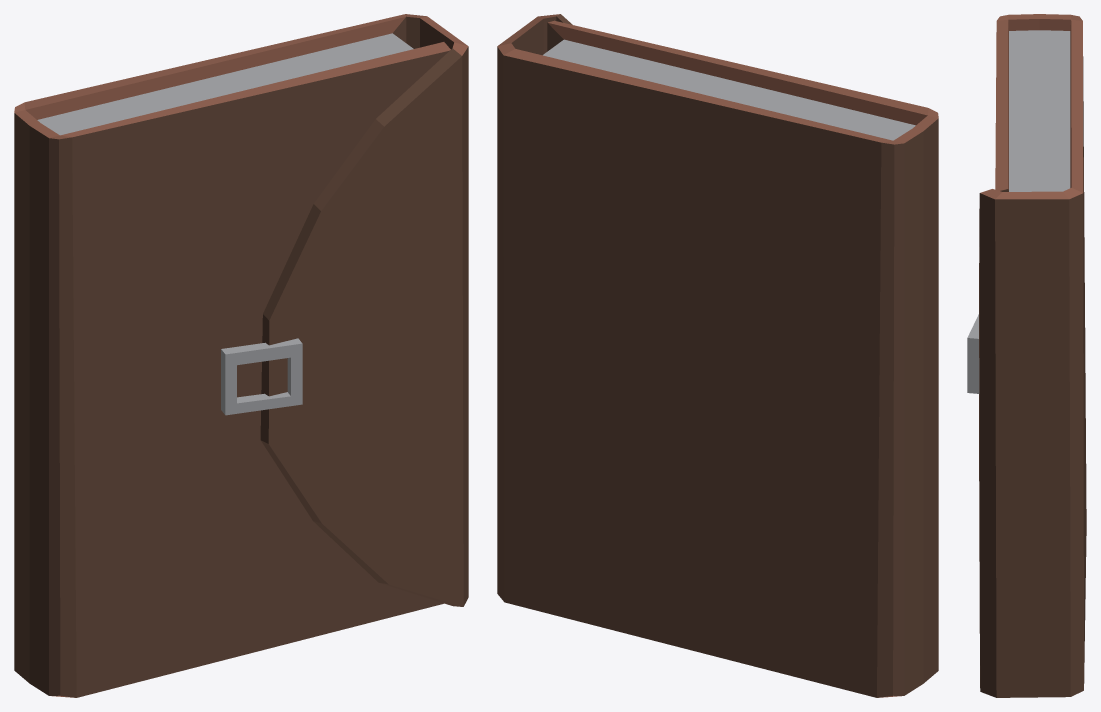
File: Journal_1.fbx
3 views of the same model, side by side, from view 1: azimuth 30°, elevation 25°; view 2: azimuth 150°, elevation 25°; view 3: azimuth 270°, elevation 25° (orthographic). The views are drawn at different scales.
Parts seen in each view (by area): view 1: Journal_1; view 2: Journal_1; view 3: Journal_1.
Part boxes in pixels (x1,y1,x2,y2): Journal_1: [14, 14, 468, 697]; Journal_1: [497, 14, 938, 697]; Journal_1: [967, 14, 1086, 697].
Size of the model in its own units: 18.98 by 24.45 by 5.23.
